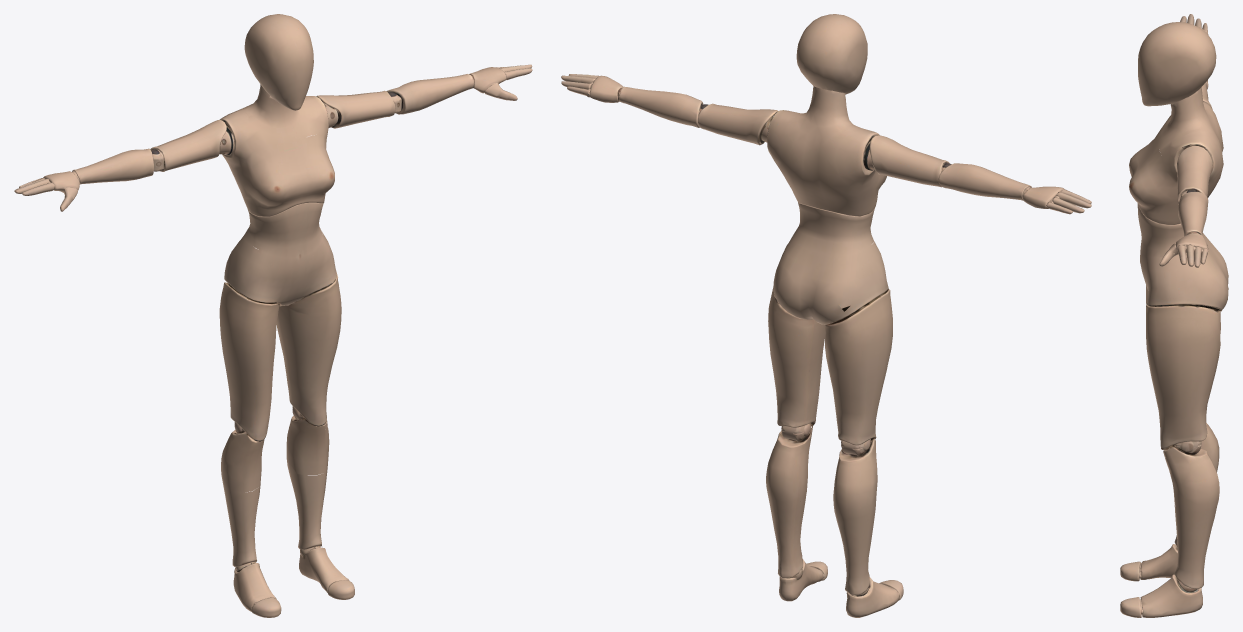
File: toonstudio_human_mannequin.glb
3 renders of one model, left to right at view 1: azimuth 30°, elevation 25°; view 2: azimuth 150°, elevation 25°; view 3: azimuth 270°, elevation 25°, orthographic. The views are drawn at different scales.
Visible parts, largest first — view 1: adb1de65_19c6_4331_87ed_001b08de8872; view 2: adb1de65_19c6_4331_87ed_001b08de8872; view 3: adb1de65_19c6_4331_87ed_001b08de8872.
Boxes of the visible parts, x1=… form: adb1de65_19c6_4331_87ed_001b08de8872: x1=14, y1=14, x2=532, y2=617; adb1de65_19c6_4331_87ed_001b08de8872: x1=561, y1=14, x2=1091, y2=617; adb1de65_19c6_4331_87ed_001b08de8872: x1=1120, y1=14, x2=1228, y2=617.
Bounding box in the file's own units: 1.61 × 1.7 × 0.2932.
Materials: 1 (1 with a texture image).
